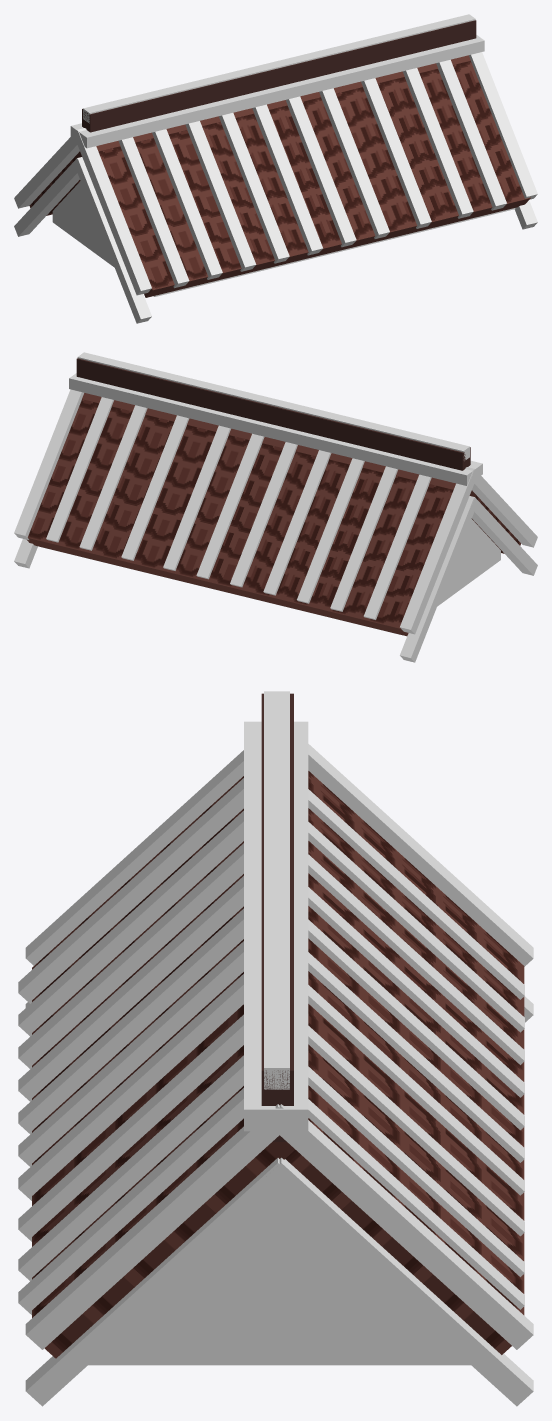
Rendered from Roof_NeonTriangle_Large2.fbx.
3 renders of one model, top to bottom at view 1: azimuth 30°, elevation 25°; view 2: azimuth 150°, elevation 25°; view 3: azimuth 270°, elevation 25°, orthographic. The views are drawn at different scales.
Visible parts, largest first — view 1: Plane.018, Cube.168, Cube.164, Cube.165, Cube.155, Cube.207, Cube.154, Cube.143, Cube.146, Cube.138, Cube.135, Cube.151 (+10 smaller); view 2: Plane.019, Cube.168, Cube.164, Cube.165, Cube.156, Cube.159, Cube.207, Plane.018, Cube.137, Cube.140, Cube.144, Cube.145 (+10 smaller); view 3: Plane.019, Cube.207, Plane.018, Cube.164, Cube.165, Cube.158, Cube.159, Cube.160, Cube.157, Cube.135, Cube.139, Cube.138 (+21 smaller).
Boxes of the visible parts, left/top/right/bottom form: Plane.018: left=98, top=61, right=530, bottom=297; Cube.168: left=82, top=20, right=476, bottom=132; Cube.164: left=70, top=35, right=484, bottom=148; Cube.165: left=83, top=14, right=475, bottom=123; Cube.155: left=73, top=128, right=151, bottom=295; Cube.207: left=52, top=181, right=515, bottom=296; Cube.154: left=118, top=137, right=189, bottom=288; Cube.143: left=286, top=96, right=356, bottom=247; Cube.146: left=252, top=104, right=323, bottom=255; Cube.138: left=402, top=68, right=473, bottom=218; Cube.135: left=436, top=59, right=506, bottom=210; Cube.151: left=152, top=129, right=222, bottom=279; Plane.019: left=27, top=399, right=453, bottom=636; Cube.168: left=76, top=358, right=470, bottom=470; Cube.164: left=69, top=373, right=482, bottom=485; Cube.165: left=77, top=352, right=469, bottom=460; Cube.156: left=400, top=467, right=474, bottom=634; Cube.159: left=14, top=389, right=83, bottom=539; Cube.207: left=42, top=519, right=500, bottom=633; Plane.018: left=82, top=393, right=520, bottom=553; Cube.137: left=79, top=405, right=147, bottom=550; Cube.140: left=121, top=415, right=189, bottom=560; Cube.144: left=196, top=433, right=264, bottom=579; Cube.145: left=230, top=442, right=297, bottom=587; Plane.019: left=285, top=771, right=524, bottom=1354; Cube.207: left=88, top=1191, right=470, bottom=1365; Plane.018: left=32, top=776, right=295, bottom=1358; Cube.164: left=244, top=721, right=308, bottom=1131; Cube.165: left=264, top=691, right=289, bottom=1089; Cube.158: left=265, top=1157, right=533, bottom=1406; Cube.159: left=276, top=1104, right=533, bottom=1349; Cube.160: left=25, top=1104, right=279, bottom=1349; Cube.157: left=25, top=1158, right=279, bottom=1406; Cube.135: left=18, top=1088, right=243, bottom=1314; Cube.139: left=18, top=1014, right=243, bottom=1241; Cube.138: left=18, top=1055, right=243, bottom=1281.
Size of the model in its own units: 1787 by 720 by 1001.
Materials: 34 (2 with a texture image).
